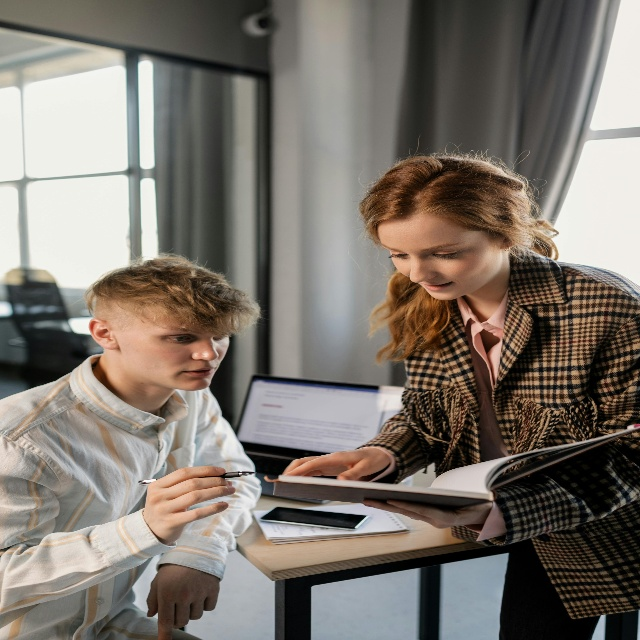Sin_guantes: (142, 464, 236, 543), (146, 562, 220, 640), (281, 445, 393, 486)
